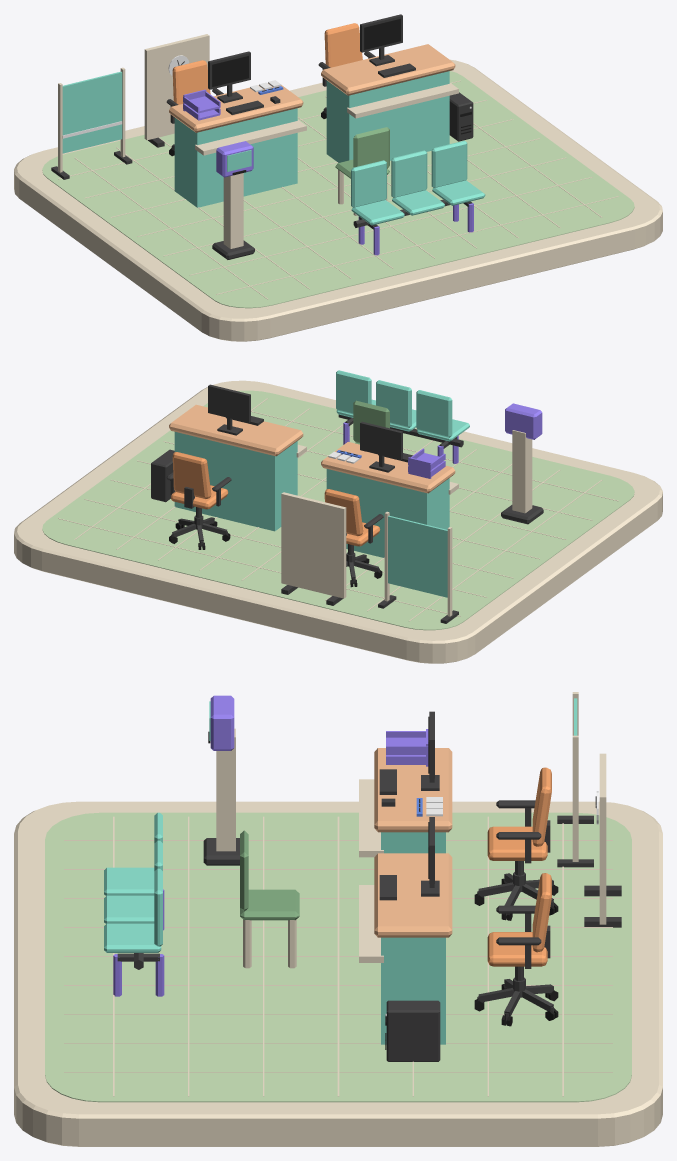
The model's file is room.fbx.
The picture shows the model from 3 angles, top to bottom: view 1: azimuth 30°, elevation 25°; view 2: azimuth 150°, elevation 25°; view 3: azimuth 270°, elevation 25°; orthographic projection. The views are drawn at different scales.
Parts seen in each view (by area): view 1: COM-02 Floor Surface, COM-01 Rounded Base Direct, Counter body, Counter body.001, Frosted privacy panel, Panel, Countertop.001, Countertop, COM-04_Chair_blender_direct.001, Pedestal, Frame, Frame.001 (+15 smaller); view 2: COM-02 Floor Surface, COM-01 Rounded Base Direct, Counter body.001, Panel, Counter body, Frosted privacy panel, COM-04_Chair_blender_direct.001, Countertop.001, Countertop, COM-04_Chair_blender_direct, Pedestal, Back (+10 smaller); view 3: COM-02 Floor Surface, COM-01 Rounded Base Direct, Countertop.001, COM-04_Chair_blender_direct.001, COM-04_Chair_blender_direct, Counter body.001, Countertop, Tower, Pedestal, Seat.003, Seat.002, Seat.001 (+13 smaller).
Boxes of the visible parts, left/top/right/bottom form: COM-02 Floor Surface: left=42, top=71, right=634, bottom=308; COM-01 Rounded Base Direct: left=14, top=59, right=662, bottom=341; Counter body: left=174, top=108, right=297, bottom=207; Counter body.001: left=326, top=71, right=449, bottom=162; Frosted privacy panel: left=62, top=71, right=122, bottom=153; Panel: left=144, top=34, right=209, bottom=140; Countertop.001: left=321, top=44, right=455, bottom=95; Countertop: left=169, top=83, right=303, bottom=132; COM-04_Chair_blender_direct.001: left=318, top=23, right=375, bottom=118; Pedestal: left=223, top=173, right=243, bottom=248; Frame: left=208, top=51, right=250, bottom=103; Frame.001: left=360, top=14, right=402, bottom=66; COM-02 Floor Surface: left=42, top=390, right=634, bottom=630; COM-01 Rounded Base Direct: left=14, top=380, right=662, bottom=663; Counter body.001: left=174, top=432, right=297, bottom=531; Panel: left=281, top=492, right=346, bottom=598; Counter body: left=326, top=469, right=449, bottom=557; Frosted privacy panel: left=388, top=515, right=447, bottom=597; COM-04_Chair_blender_direct.001: left=166, top=452, right=231, bottom=549; Countertop.001: left=169, top=404, right=303, bottom=456; Countertop: left=321, top=442, right=455, bottom=493; COM-04_Chair_blender_direct: left=324, top=489, right=383, bottom=587; Pedestal: left=512, top=430, right=532, bottom=513; Back: left=416, top=390, right=452, bottom=437; COM-02 Floor Surface: left=45, top=812, right=631, bottom=1102; COM-01 Rounded Base Direct: left=14, top=801, right=662, bottom=1146; Countertop.001: left=374, top=853, right=452, bottom=937; COM-04_Chair_blender_direct.001: left=474, top=873, right=558, bottom=1026; COM-04_Chair_blender_direct: left=474, top=767, right=558, bottom=920; Counter body.001: left=381, top=937, right=445, bottom=1044; Countertop: left=374, top=748, right=452, bottom=832; Tower: left=386, top=1000, right=440, bottom=1061; Pedestal: left=216, top=728, right=235, bottom=851; Seat.003: left=240, top=889, right=299, bottom=920; Seat.002: left=104, top=923, right=161, bottom=952; Seat.001: left=104, top=895, right=154, bottom=923.
Bounding box in the file's own units: 600 × 187 × 520.
